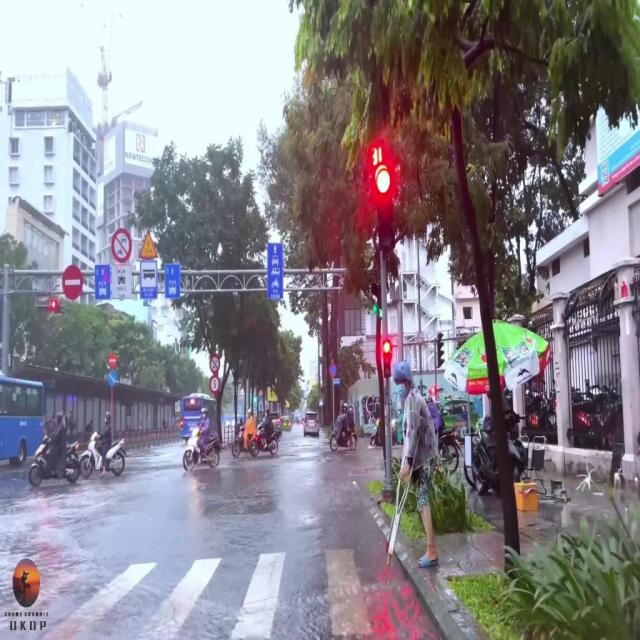cam_do_xe: (329, 363, 337, 377)
cam_xe_2_banh_va_xe_3_banh_co_dong_co: (210, 354, 220, 373)
cam_xe_di_nguoc_chieu: (62, 264, 82, 300), (108, 353, 116, 368)
di_cham: (139, 228, 157, 257)
huong_phai_di_vuot_chuong_ngai_vat_phai: (108, 371, 116, 385)
khac: (268, 243, 284, 300), (111, 228, 132, 263), (112, 264, 132, 300), (140, 262, 158, 299), (165, 264, 181, 298), (95, 266, 111, 300), (208, 374, 220, 394), (258, 389, 263, 397)
object: (319, 399, 323, 406)
